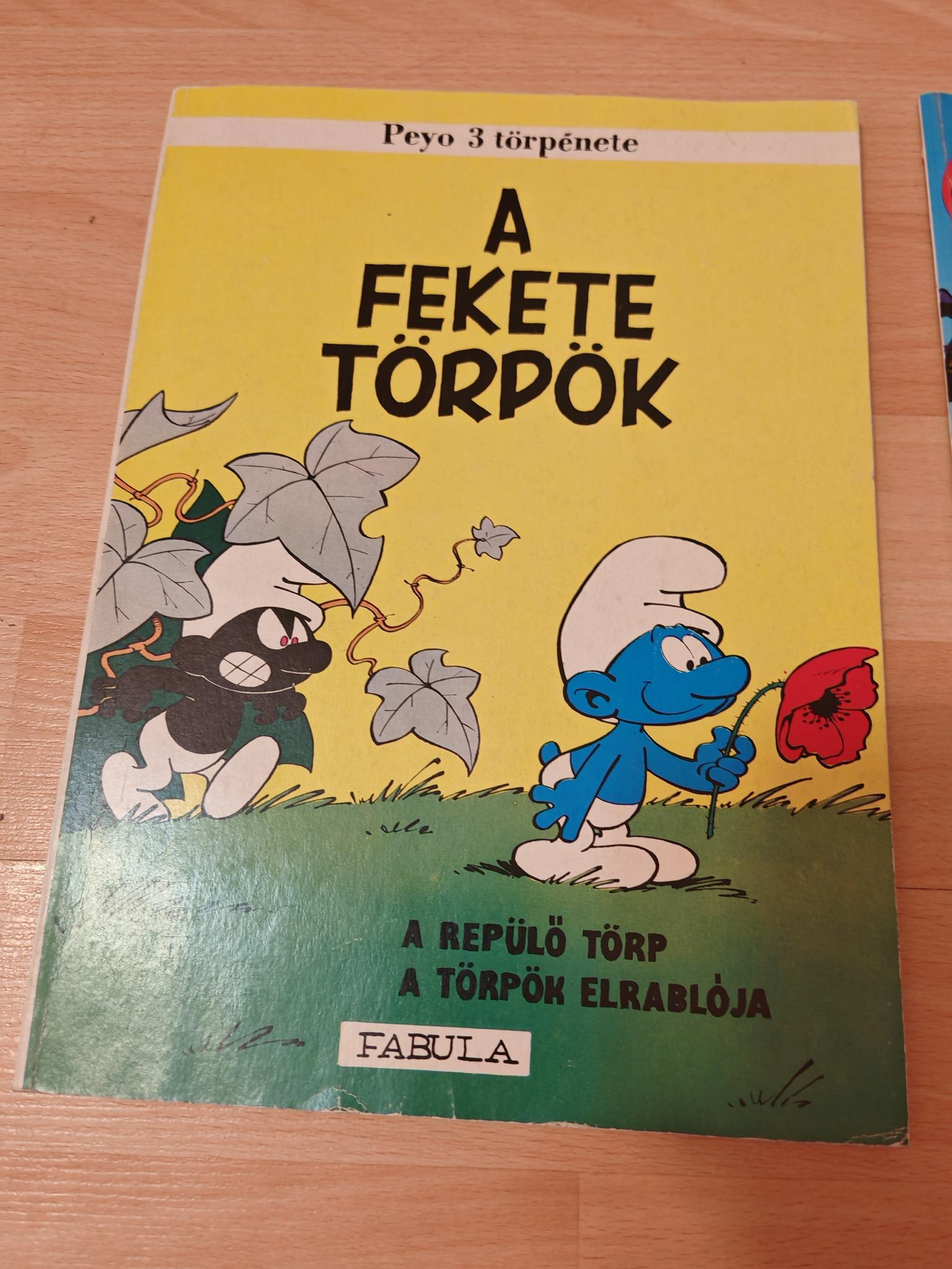comic: (18, 64, 952, 1143)
